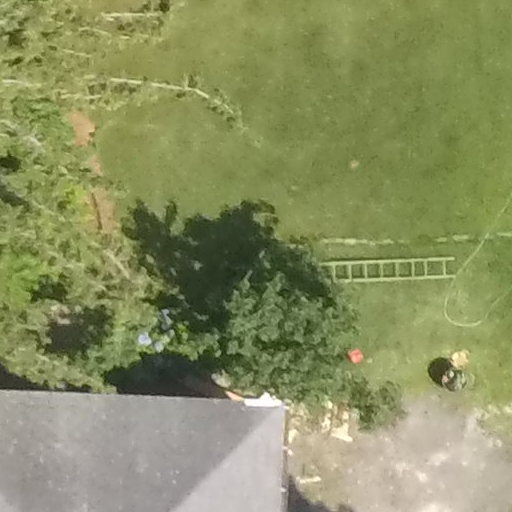bird bath: (438, 347, 479, 400)
container: (347, 345, 367, 365)
